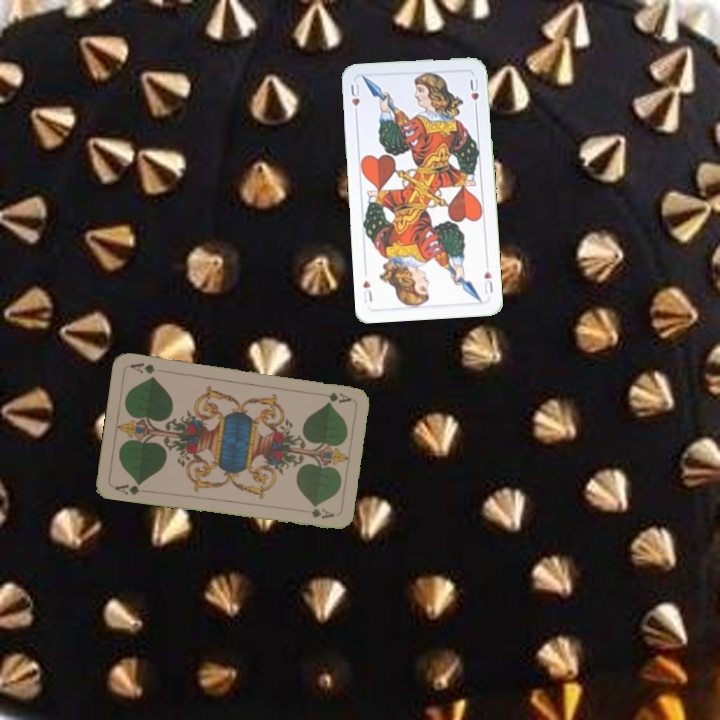GA: (314, 388, 354, 405), (111, 479, 144, 498)
HU: (480, 259, 496, 296), (347, 80, 362, 119)
